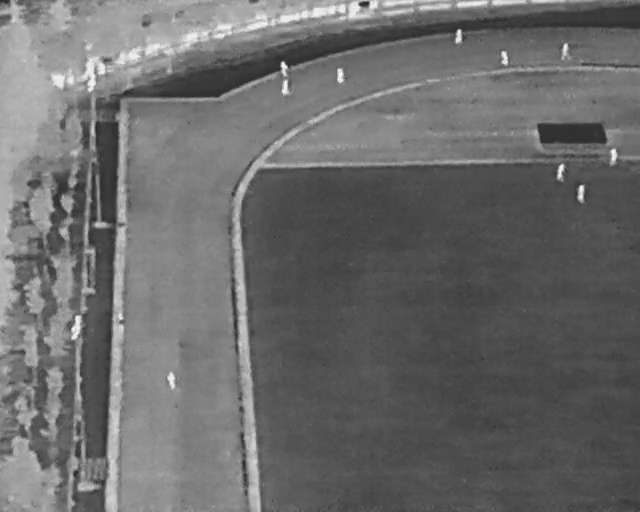Person: (165, 370, 177, 390), (576, 183, 586, 204), (556, 161, 566, 181), (281, 78, 291, 97), (561, 42, 571, 61), (336, 66, 346, 84), (609, 146, 618, 166), (454, 27, 464, 44), (117, 312, 125, 332), (280, 60, 289, 77), (500, 49, 509, 66)
